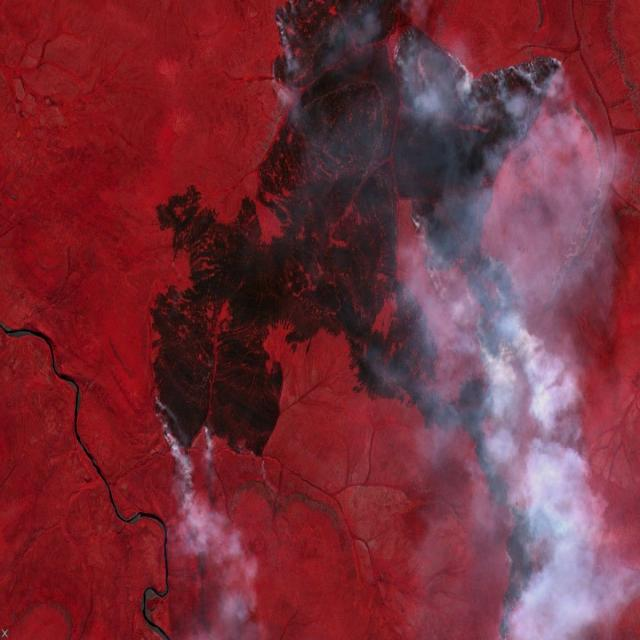fire: (388, 22, 576, 108), (465, 244, 526, 372), (148, 392, 218, 486), (494, 534, 538, 640), (263, 0, 306, 98), (406, 196, 448, 284), (552, 503, 588, 555)
